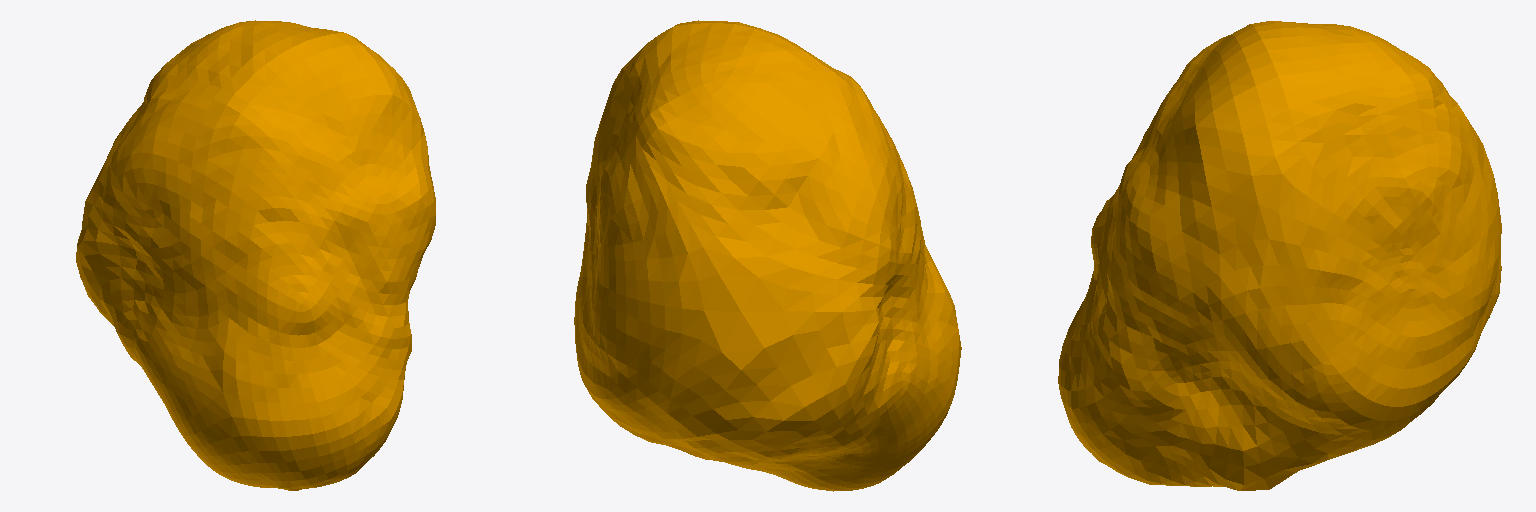
robot.urdf — rock:
<?xml version="1.0" ?>
<robot name="rock">
  <link name="rock">
    <inertial>
      <mass value="0.333"/>
      <origin rpy="0 0 0" xyz="0 0 0"/>
      <inertia ixx="0.000333" ixy="0" ixz="0" iyy="0.000333" iyz="0" izz="0.000333"/>
    </inertial>
    <collision name="rock_collision">
      <origin rpy="0 0 0" xyz="0 0 0"/>
      <geometry>
        <mesh filename="package://rocks/visual/138.dae" scale="1 1 1"/>
      </geometry>
    </collision>
    <visual name="rock_visual">
      <origin rpy="0 0 0" xyz="0 0 0"/>
      <geometry>
        <mesh filename="package://rocks/visual/138.dae" scale="1 1 1"/>
      </geometry>
    </visual>
  </link>
</robot>

--- Render facts (derived) ---
3 views of the same robot in one strip: view 1: azimuth 30°, elevation 25°; view 2: azimuth 150°, elevation 25°; view 3: azimuth 270°, elevation 25° (orthographic).
Model rock with 1 links and 0 joints (none), rooted at rock, posed all joints at 0.
Links seen in each view (by area): view 1: rock; view 2: rock; view 3: rock.
Boxes of the visible links, bbox=[...] form: rock: bbox=[76, 20, 435, 490]; rock: bbox=[574, 20, 961, 491]; rock: bbox=[1058, 21, 1501, 490].
Bounding box of the posed robot: 0.0494 × 0.0571 × 0.0663 m (x, y, z).
1 mesh visuals loaded from 1 distinct referenced files (1 Collada DAE).